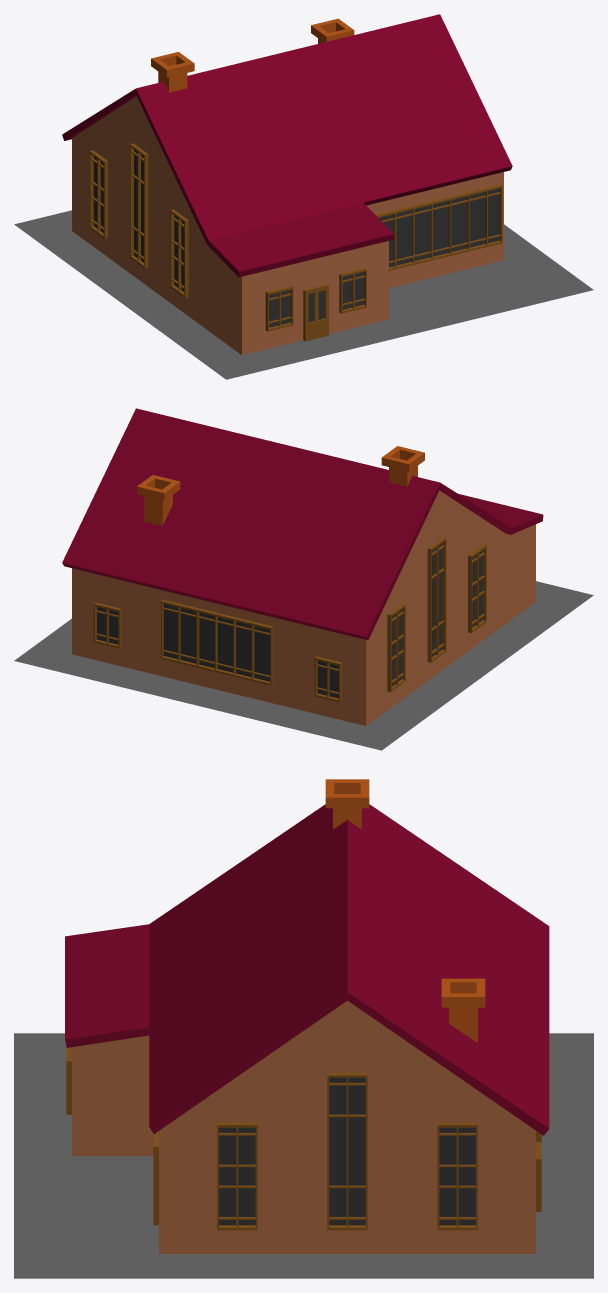
File: house_04.fbx
3 renders of one model, top to bottom at view 1: azimuth 30°, elevation 25°; view 2: azimuth 150°, elevation 25°; view 3: azimuth 270°, elevation 25°, orthographic. The views are drawn at different scales.
Visible parts, largest first — view 1: house_04; view 2: house_04; view 3: house_04.
Boxes of the visible parts, x1,y1,x2,y2 form: house_04: (14,14,593,379); house_04: (14,408,593,750); house_04: (14,779,593,1278).
Size of the model in its own units: 20 by 11.06 by 20.
